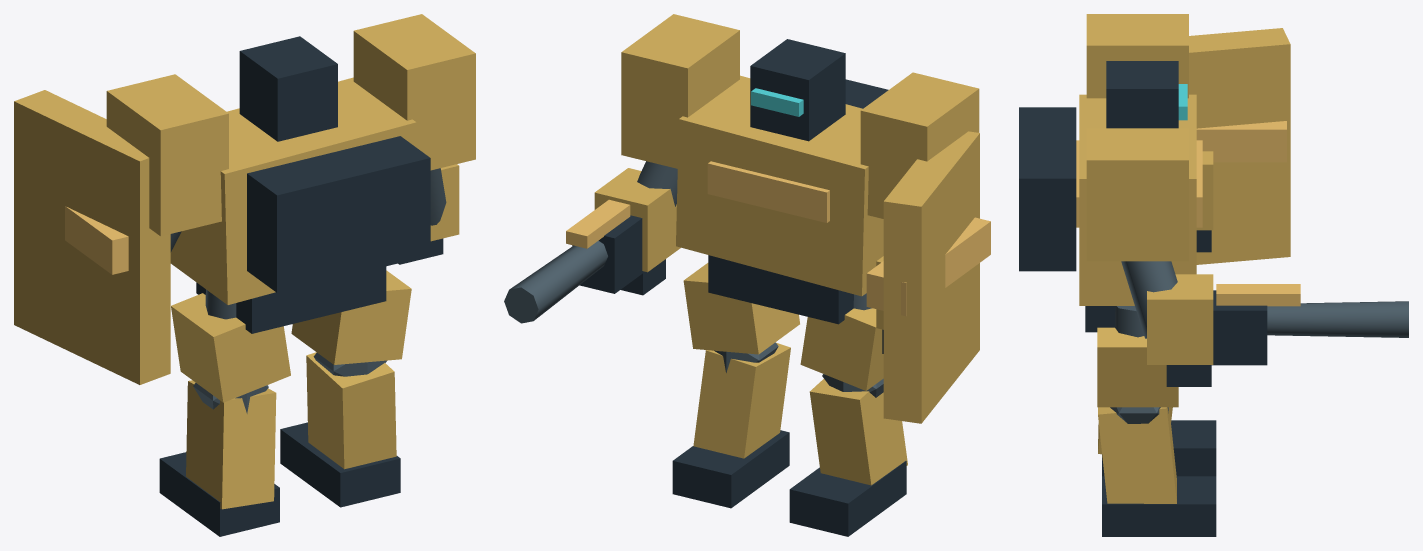
Rendered from frame-saladin.glb.
The picture shows the model from 3 angles, left to right: view 1: azimuth 30°, elevation 25°; view 2: azimuth 150°, elevation 25°; view 3: azimuth 270°, elevation 25°; orthographic projection. The views are drawn at different scales.
Visible parts, largest first — view 1: frame-saladin; view 2: frame-saladin; view 3: frame-saladin.
Boxes of the visible parts, x1=… form: frame-saladin: x1=14, y1=14, x2=475, y2=536; frame-saladin: x1=504, y1=14, x2=990, y2=536; frame-saladin: x1=1019, y1=14, x2=1408, y2=536.
Size of the model in its own units: 1.36 by 1.54 by 1.29.
